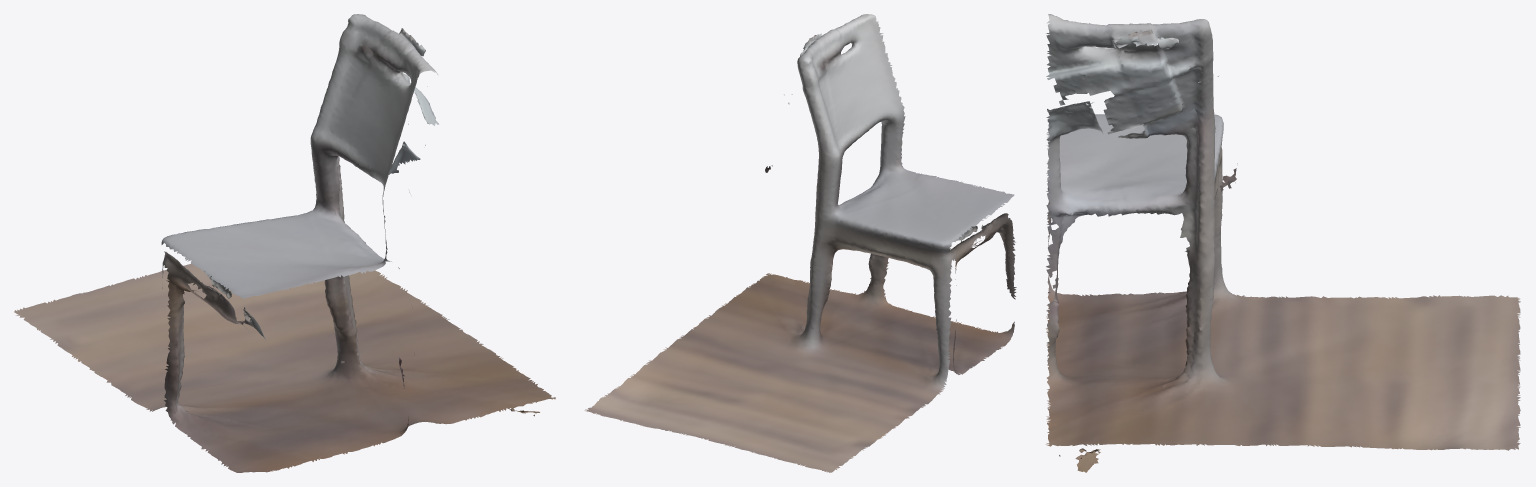
Rendered from apartment-full-113-7235d11e4b93.glb.
3 renders of one model, left to right at view 1: azimuth 30°, elevation 25°; view 2: azimuth 150°, elevation 25°; view 3: azimuth 270°, elevation 25°, orthographic. The views are drawn at different scales.
Size of the model in its own units: 0.833 by 0.973 by 1.07.
